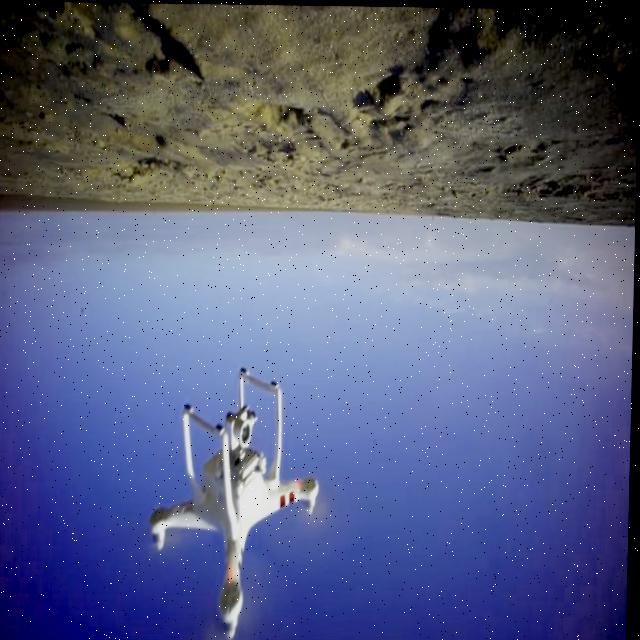drone: (149, 361, 323, 640)
